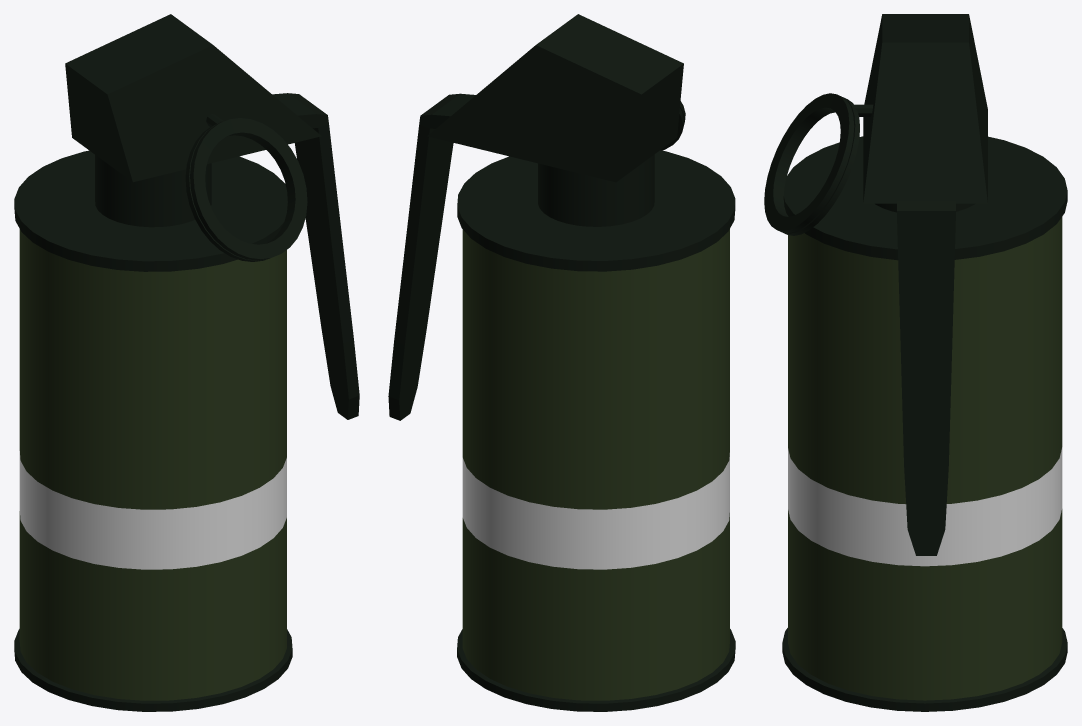
Rendered from 003SmokeGrenade.fbx.
3 views of the same model, side by side, from view 1: azimuth 30°, elevation 25°; view 2: azimuth 150°, elevation 25°; view 3: azimuth 270°, elevation 25° (orthographic). The views are drawn at different scales.
Parts seen in each view (by area): view 1: 円柱, 立方体, 立方体.001, 円柱.001; view 2: 円柱, 立方体, 立方体.001; view 3: 円柱, 立方体, 立方体.001, 円柱.001.
Boxes of the visible parts, box(x1,y1,x2,y2) form: 円柱: box(14, 150, 292, 711); 立方体: box(65, 14, 321, 182); 立方体.001: box(272, 93, 359, 419); 円柱.001: box(185, 118, 307, 261); 円柱: box(457, 150, 735, 711); 立方体: box(427, 14, 683, 182); 立方体.001: box(388, 93, 475, 420); 円柱: box(782, 136, 1067, 711); 立方体: box(863, 14, 987, 203); 立方体.001: box(897, 187, 955, 555); 円柱.001: box(764, 93, 859, 235).
Bounding box in the file's own units: 257 × 469 × 205.
